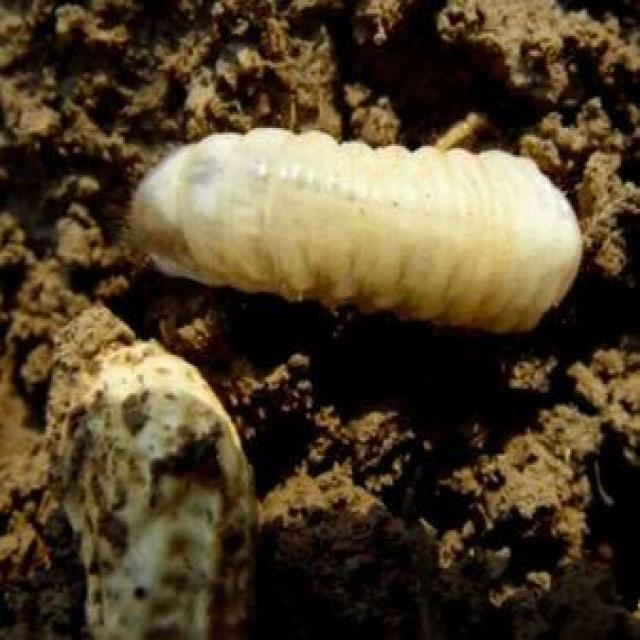Grub-Adult-: (99, 97, 586, 356)
